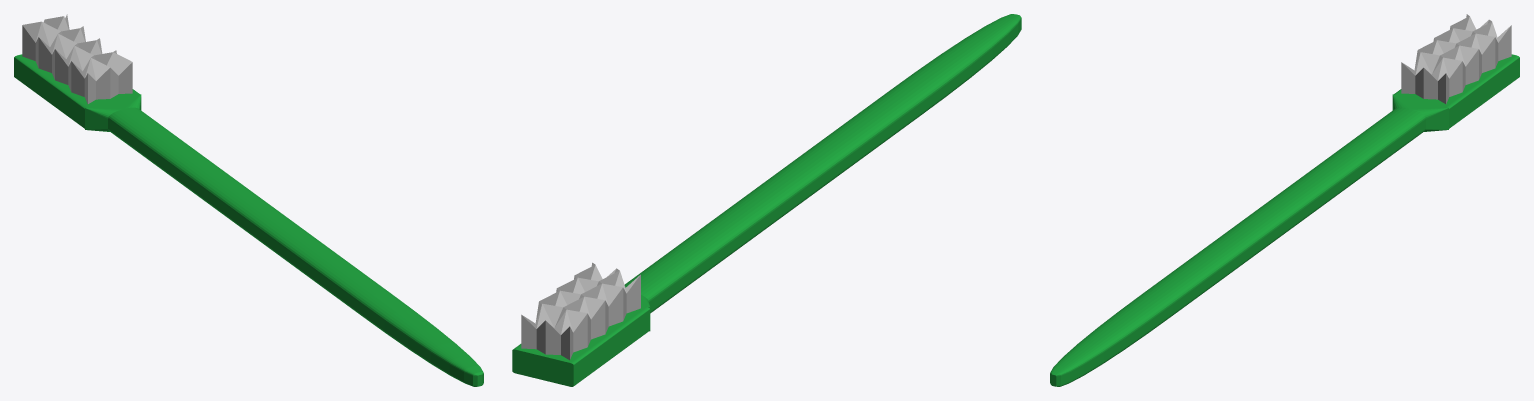
Rendered from toothbrush.fbx.
3 renders of one model, left to right at view 1: azimuth 30°, elevation 25°; view 2: azimuth 150°, elevation 25°; view 3: azimuth 330°, elevation 25°, orthographic. The views are drawn at different scales.
Parts seen in each view (by area): view 1: Cube, Cube.001; view 2: Cube, Cube.001; view 3: Cube, Cube.001.
Part boxes in pixels (<box>): Cube: <box>14,54,483,386</box>; Cube.001: <box>22,14,132,103</box>; Cube: <box>512,14,1021,386</box>; Cube.001: <box>521,262,640,360</box>; Cube: <box>1050,54,1519,386</box>; Cube.001: <box>1401,14,1511,103</box>.
Size of the model in its own units: 179 by 181 by 2394.
